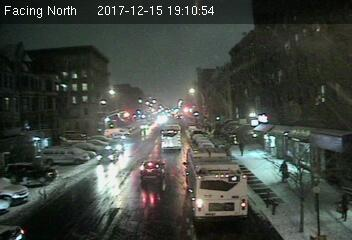bus: (184, 150, 251, 222), (159, 124, 184, 152)
car: (140, 161, 164, 178), (95, 149, 119, 163)
